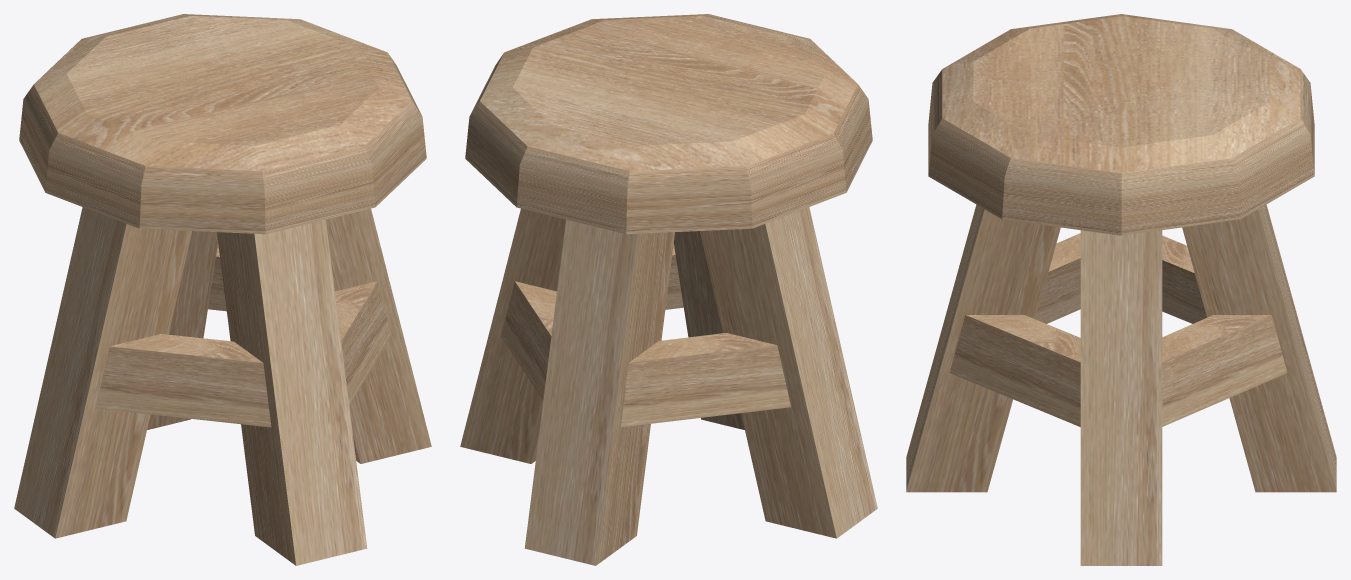
The model's file is fbx_woodchair.fbx.
3 views of the same model, side by side, from view 1: azimuth 30°, elevation 25°; view 2: azimuth 150°, elevation 25°; view 3: azimuth 270°, elevation 25° (orthographic).
Visible parts, largest first — view 1: fbx_woodchair; view 2: fbx_woodchair; view 3: fbx_woodchair.
Boxes of the visible parts, left/top/right/bottom form: fbx_woodchair: left=14, top=14, right=431, bottom=565; fbx_woodchair: left=460, top=14, right=877, bottom=565; fbx_woodchair: left=906, top=14, right=1336, bottom=565.
Bounding box in the file's own units: 1.52 × 1.53 × 1.52.
1 material, 1 textured.
